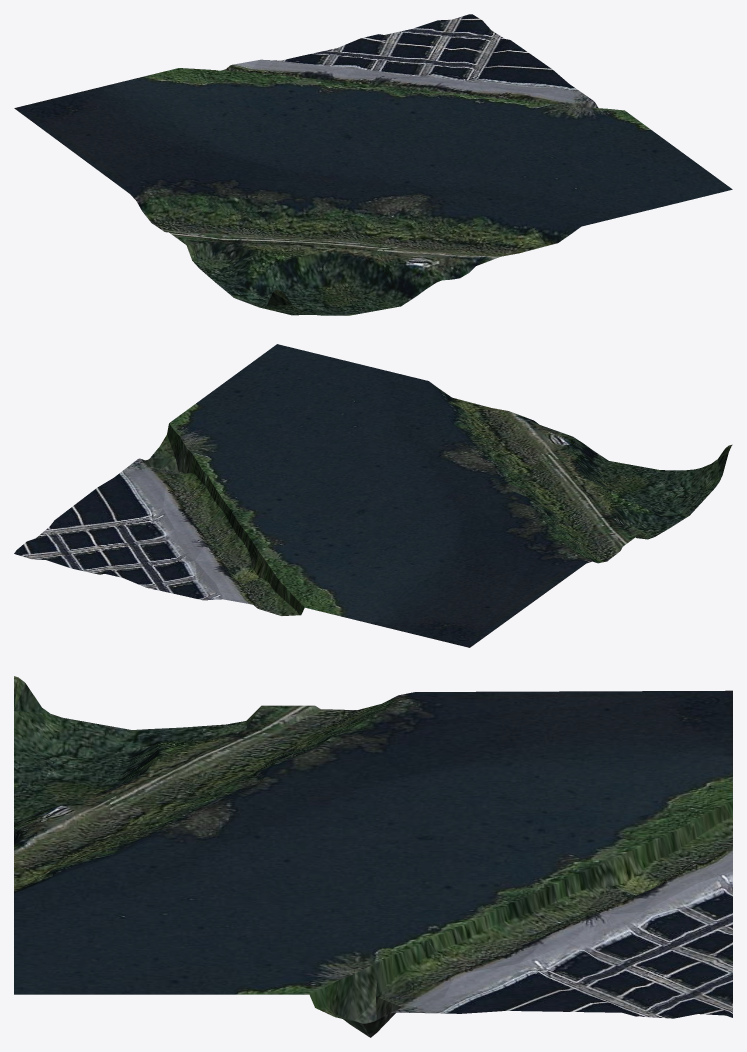
Rendered from map_15_8178_13776.dae.
3 views of the same model, one above another, from view 1: azimuth 30°, elevation 25°; view 2: azimuth 150°, elevation 25°; view 3: azimuth 270°, elevation 25° (orthographic). The views are drawn at different scales.
Parts seen in each view (by area): view 1: Ter0; view 2: Ter0; view 3: Ter0.
Boxes of the visible parts, <box> form: Ter0: <box>14,14,732,315</box>; Ter0: <box>14,344,732,647</box>; Ter0: <box>14,676,732,1037</box>.
Size of the model in its own units: 63.88 by 63.88 by 6.7.
3 materials, 3 textured.
